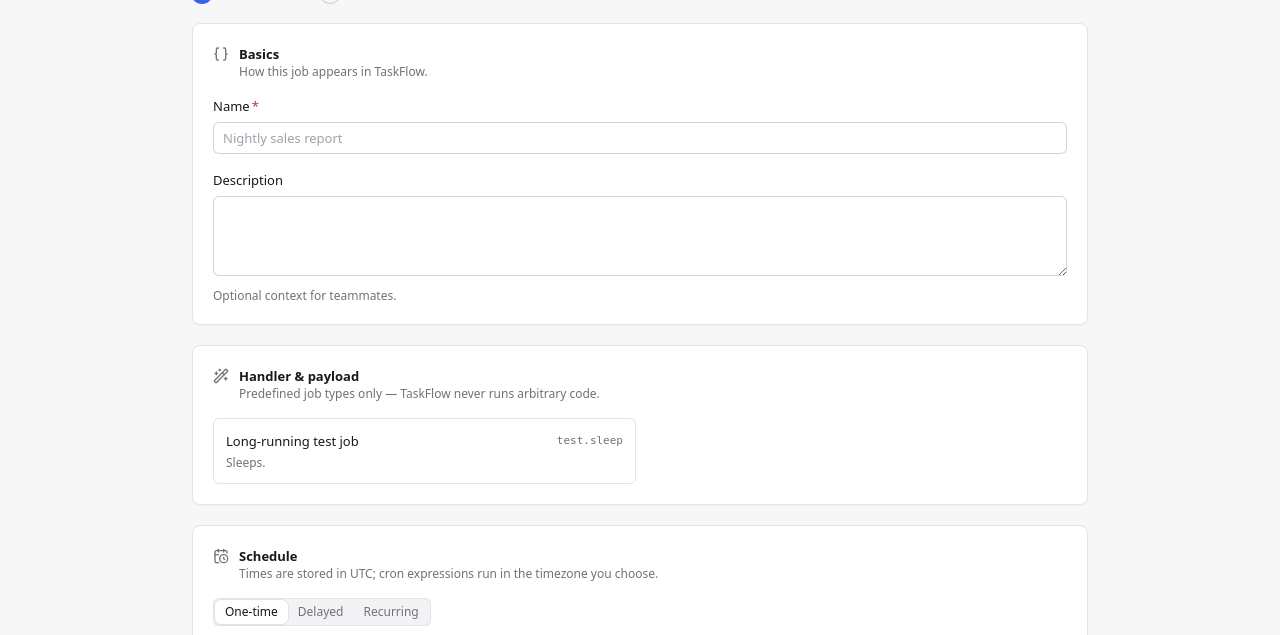
Test: JobFormPage › rejects invalid JSON payloads
Type "x" into the field labelled "Name*".
click(640, 138); type("x")  # box [213,122,1067,154]
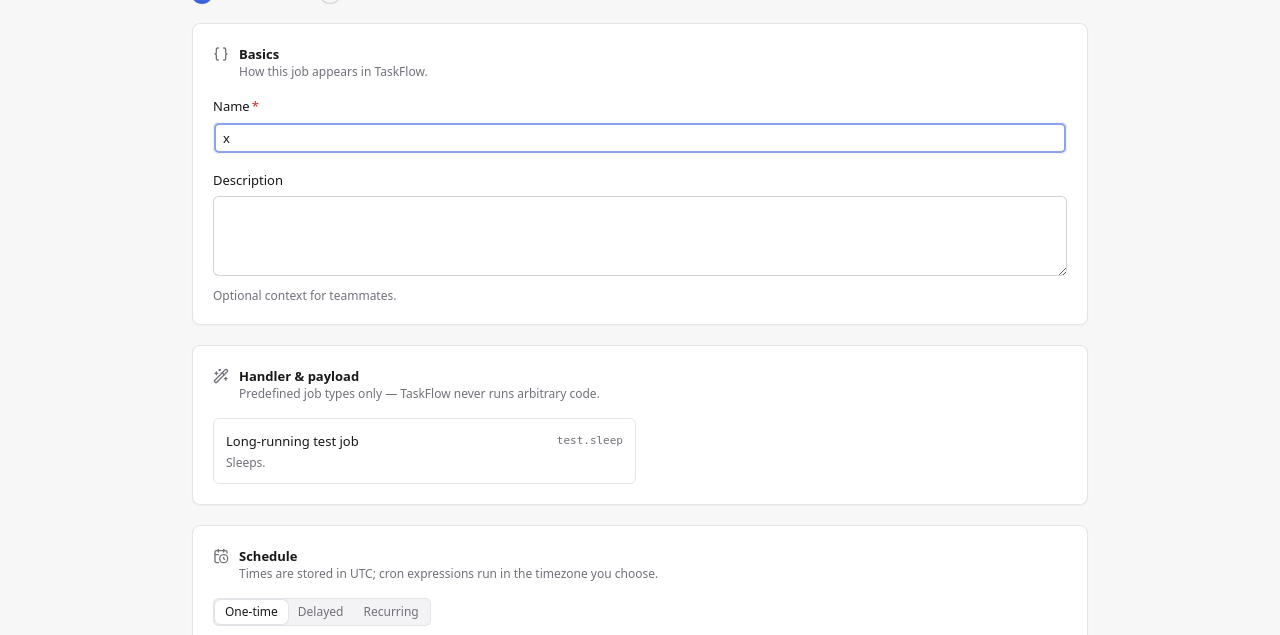
Click the radio button labelled "Long-running test job test.sleep Sleeps.".
click(292, 441)  # box [213,418,636,484]
(page scrolled)
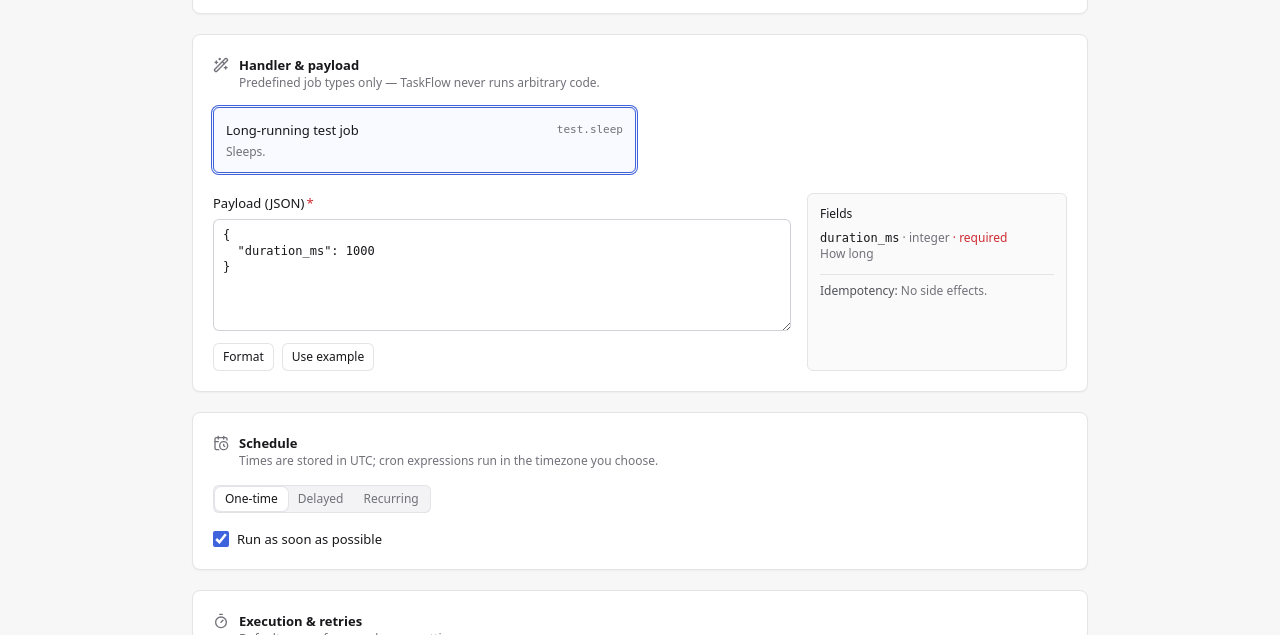
Replace the text in the text box labelled "Payload (JSON)*" with "[ [1" at (502,275), box [213,219,791,331]
(page scrolled)
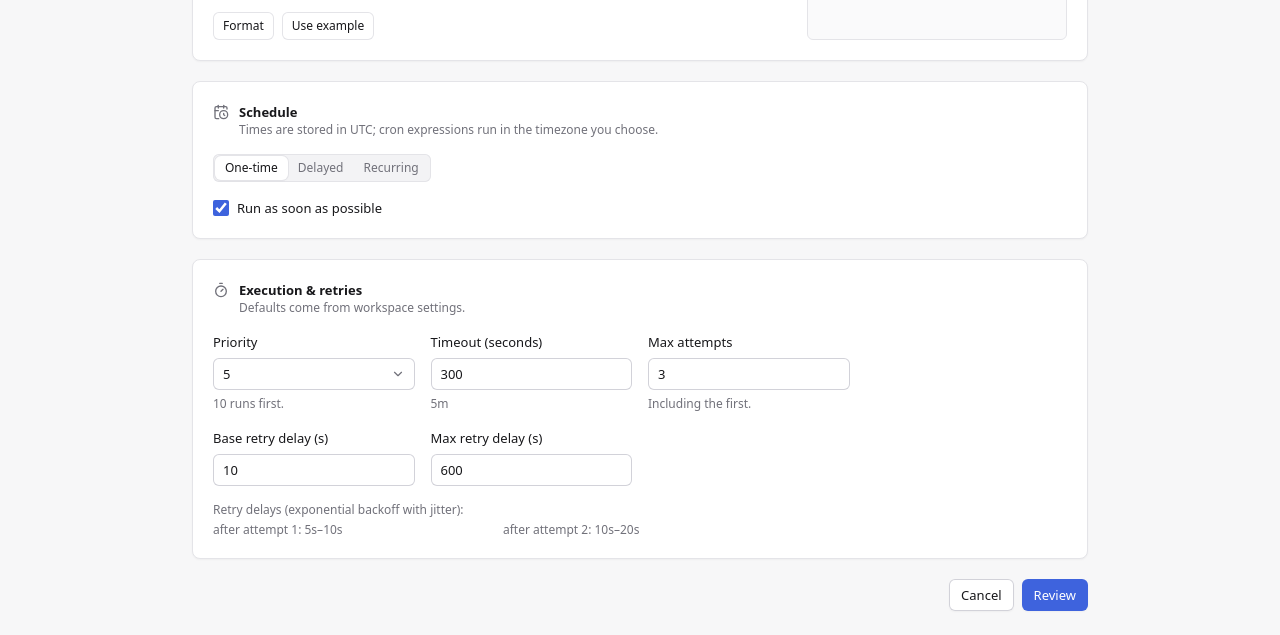
Click the button "Review".
click(1055, 595)  # box [1022,579,1088,611]
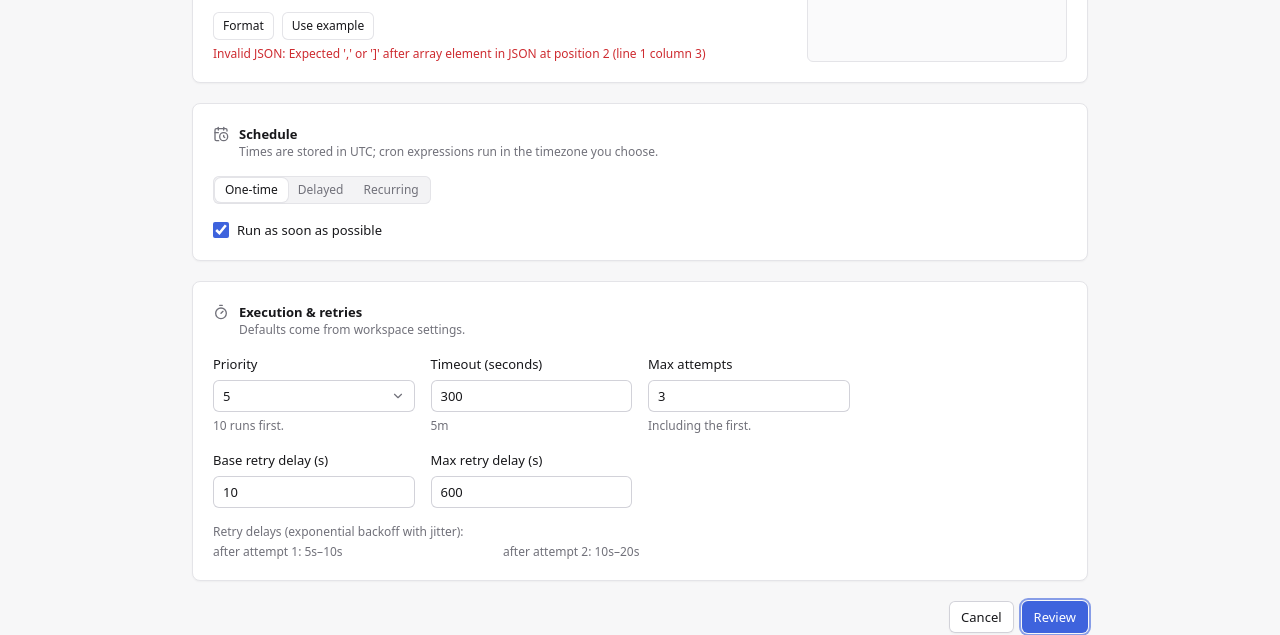
Check: the text "Invalid JSON" is shown, box [213,45,706,62]
